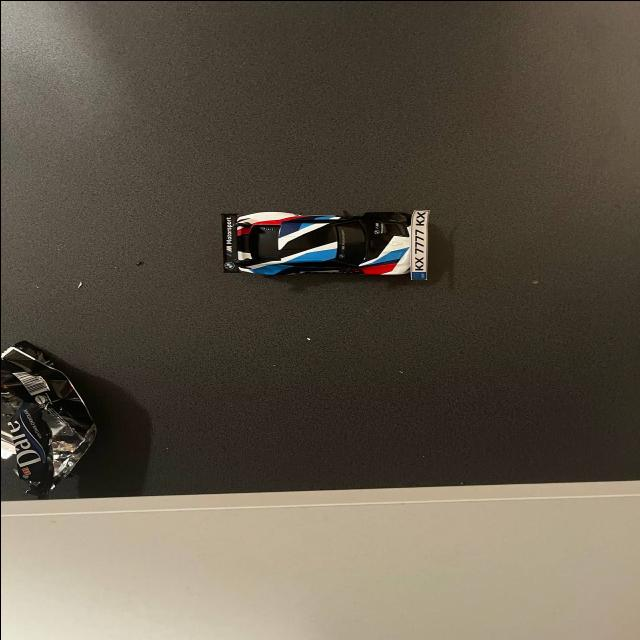cars: (212, 195, 448, 296)
